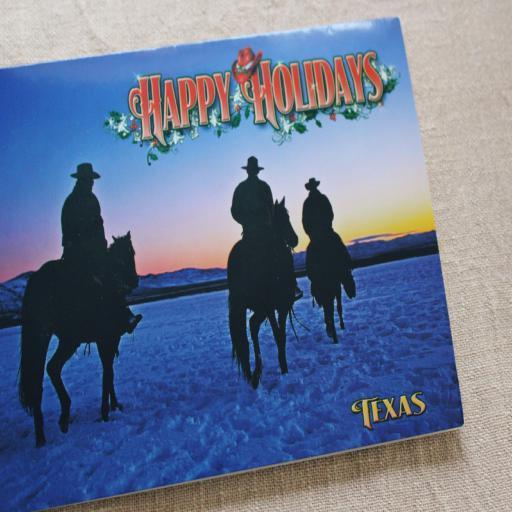horse: (14, 228, 140, 447), (224, 192, 299, 388), (310, 240, 348, 344)
